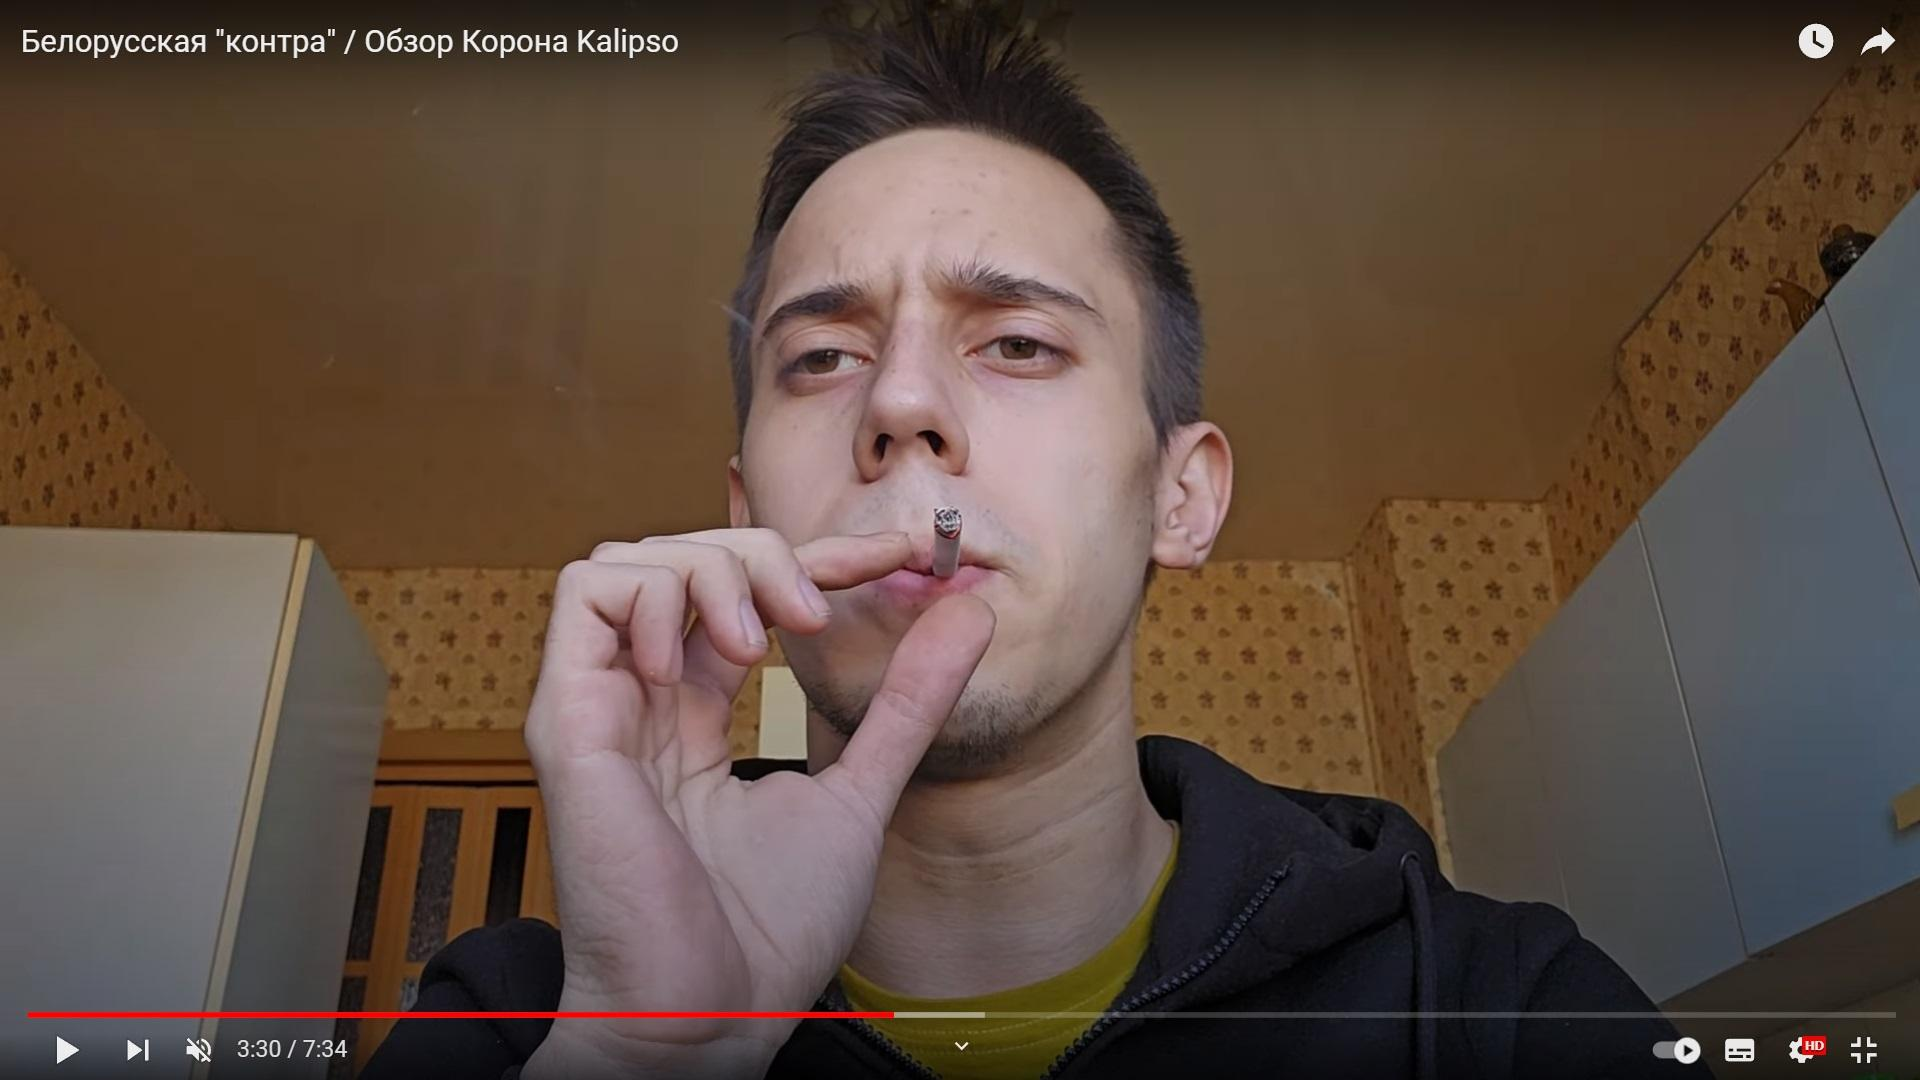cigarette: (934, 506, 960, 578)
